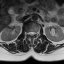CCS_normal: (30, 29, 32, 38)
LFS_normal: (35, 30, 36, 36)
LLS_normal: (32, 30, 34, 36)
RFS_normal: (26, 30, 28, 36)
RLS_normal: (28, 30, 30, 37)
